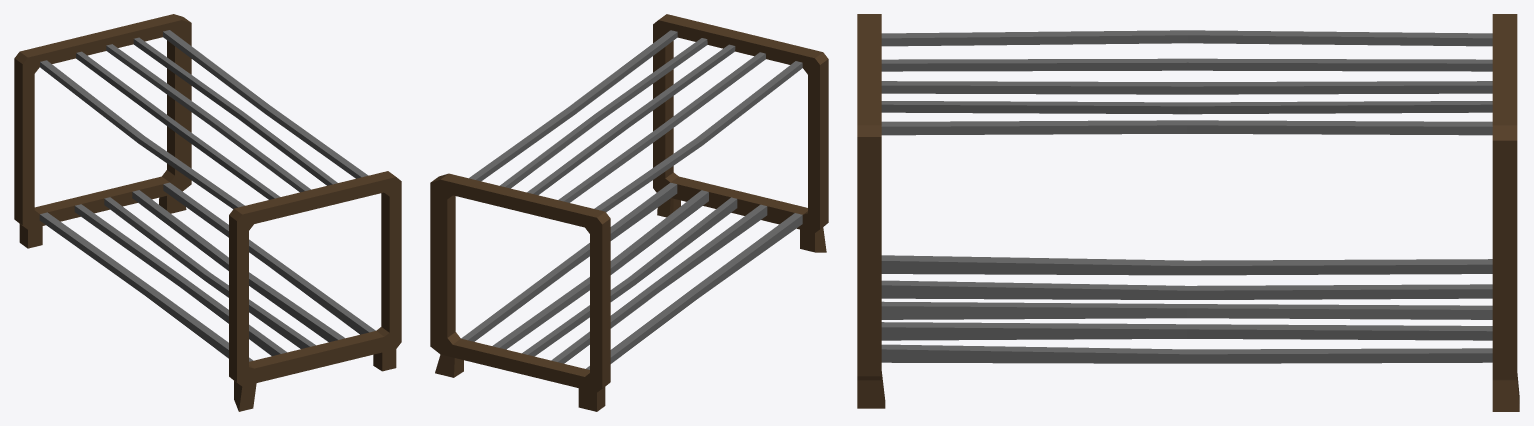
Rendered from ShoeRack.fbx.
3 views of the same model, side by side, from view 1: azimuth 30°, elevation 25°; view 2: azimuth 150°, elevation 25°; view 3: azimuth 270°, elevation 25° (orthographic). The views are drawn at different scales.
Visible parts, largest first — view 1: Cube.026; view 2: Cube.026; view 3: Cube.026.
Boxes of the visible parts, <box> form: Cube.026: <box>14,14,401,411</box>; Cube.026: <box>430,14,828,411</box>; Cube.026: <box>857,14,1519,411</box>.
Bounding box in the file's own units: 67.4 × 154 × 74.89.
